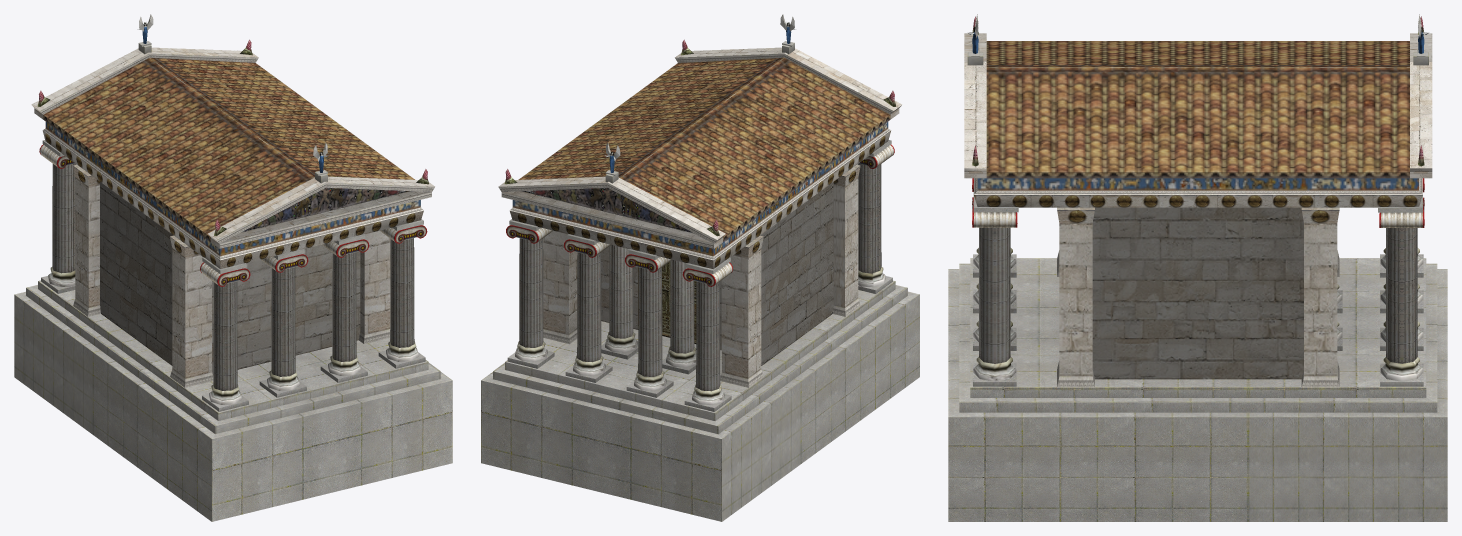
Rendered from athen_temple.glb.
3 renders of one model, left to right at view 1: azimuth 30°, elevation 25°; view 2: azimuth 150°, elevation 25°; view 3: azimuth 270°, elevation 25°, orthographic. The views are drawn at different scales.
Visible parts, largest first — view 1: athen_temple_part0, athen_temple_part3, athen_temple_part2, athen_temple_part1; view 2: athen_temple_part0, athen_temple_part3, athen_temple_part2, athen_temple_part1; view 3: athen_temple_part0, athen_temple_part3, athen_temple_part2, athen_temple_part1.
Part boxes in pixels (x1,y1,x2,y2): athen_temple_part0: (31, 47, 434, 404); athen_temple_part3: (14, 41, 452, 521); athen_temple_part2: (37, 14, 428, 390); athen_temple_part1: (39, 122, 427, 286); athen_temple_part0: (498, 47, 902, 404); athen_temple_part3: (481, 41, 919, 521); athen_temple_part2: (504, 14, 895, 391); athen_temple_part1: (506, 122, 894, 286); athen_temple_part0: (964, 33, 1432, 387); athen_temple_part3: (948, 50, 1447, 521); athen_temple_part2: (968, 14, 1428, 363); athen_temple_part1: (972, 178, 1424, 227).
Size of the model in its own units: 3.52 by 4.76 by 5.
Materials: 4 (4 with a texture image).
